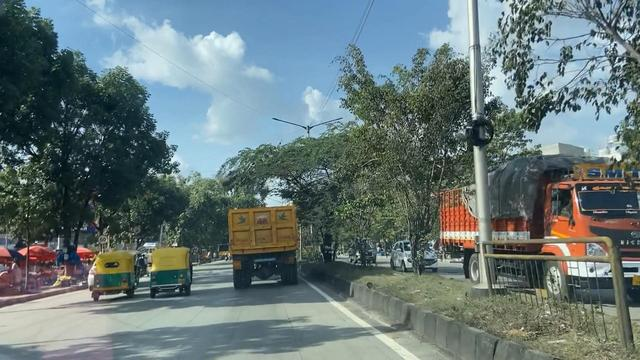HMV: (225, 205, 305, 279)
LMV: (146, 247, 196, 300), (98, 245, 140, 296)
